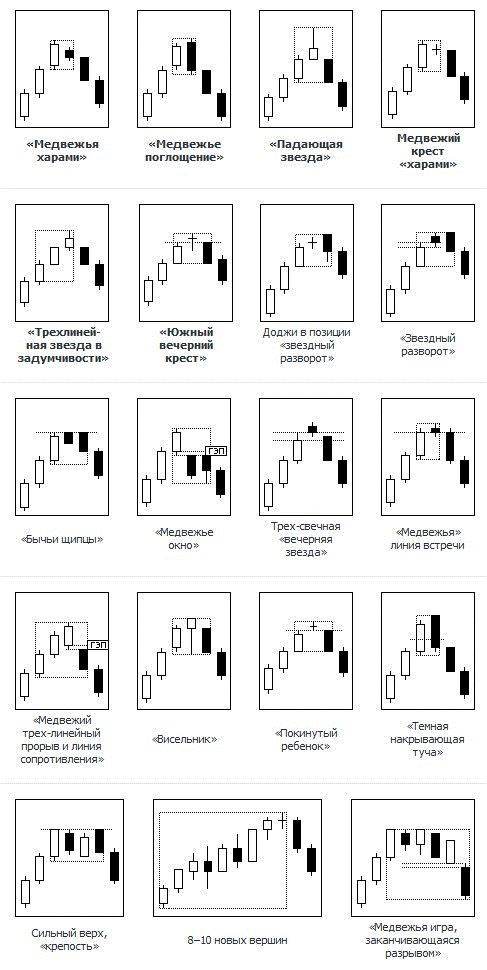3whitesoldiers: (35, 230, 73, 281)
bearishAbandonedBaby: (295, 622, 332, 652)
bearishEngulfing: (173, 38, 195, 74)
shootingStar: (294, 28, 320, 82)
